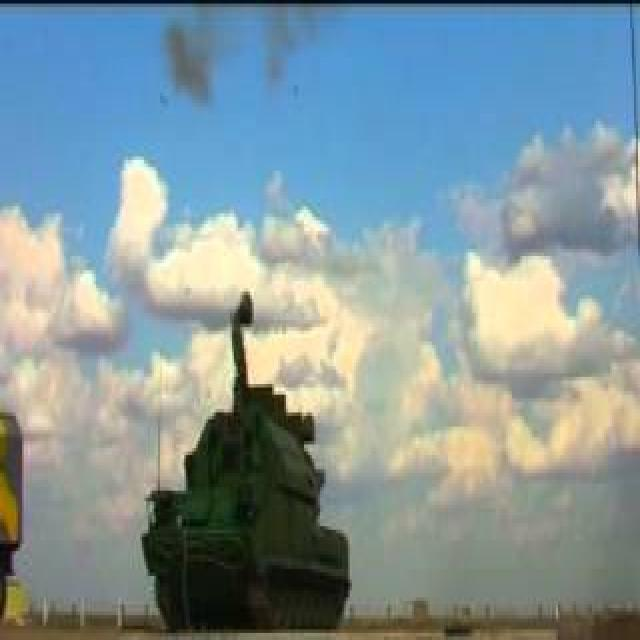MIL_EW_RDR: (136, 287, 355, 640)
